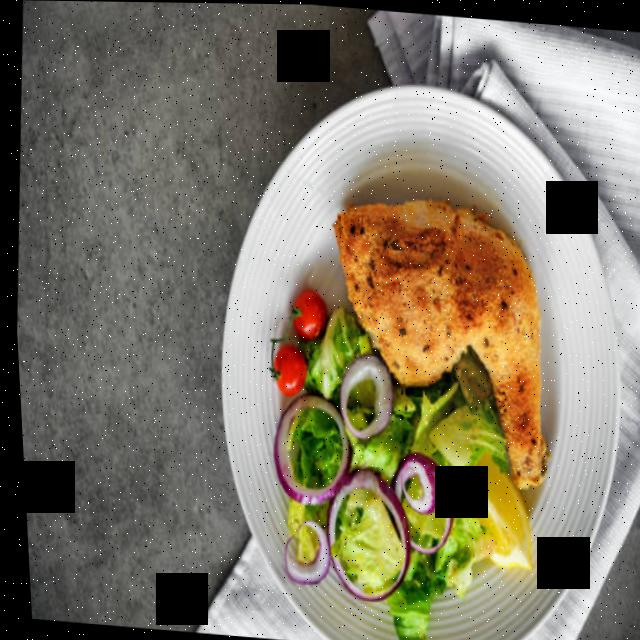Frango: (308, 189, 564, 493)
